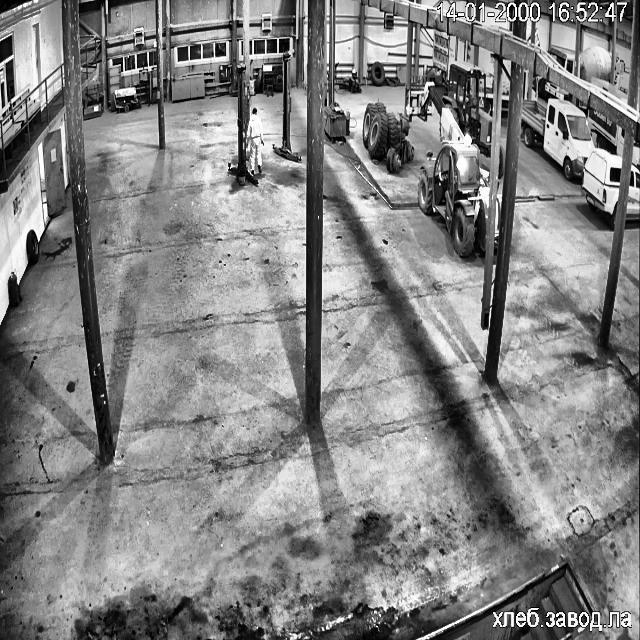class4: (247, 108, 264, 172)
class6: (418, 133, 488, 256), (428, 60, 492, 156), (362, 101, 414, 172), (488, 196, 500, 252), (498, 146, 504, 177), (496, 106, 500, 116)
class7: (521, 99, 593, 180), (580, 148, 620, 228), (588, 108, 624, 156), (578, 45, 610, 83), (592, 80, 627, 105), (533, 76, 570, 99), (626, 165, 640, 218), (548, 45, 574, 73), (615, 57, 624, 84), (632, 140, 640, 164), (456, 136, 456, 137)
tractor: (8, 272, 21, 306)
truck: (228, 64, 258, 185), (272, 52, 300, 161)
